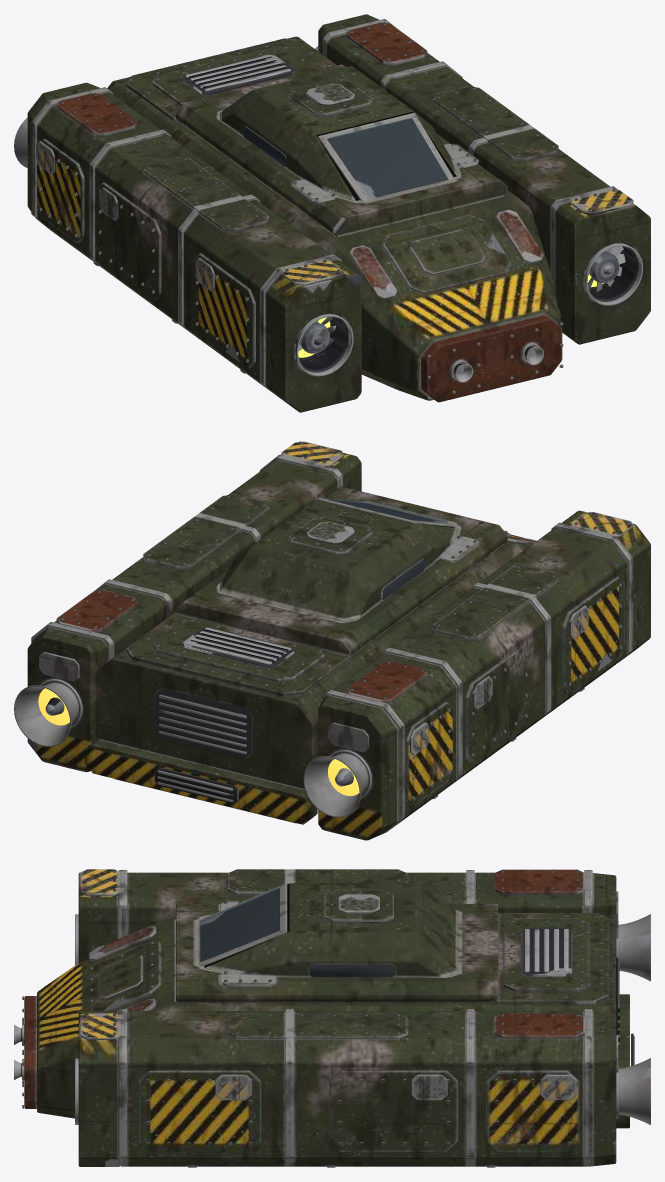
File: bulwark.glb
3 renders of one model, top to bottom at view 1: azimuth 30°, elevation 25°; view 2: azimuth 150°, elevation 25°; view 3: azimuth 270°, elevation 25°, orthographic.
Visible parts, largest first — view 1: bulwark_body, bulwark_glass; view 2: bulwark_body, bulwark_glass, bulwark_emissive; view 3: bulwark_body, bulwark_glass.
Part boxes in pixels (<box>): bulwark_body: <box>14,14,650,412</box>; bulwark_glass: <box>242,117,447,197</box>; bulwark_body: <box>14,441,650,840</box>; bulwark_glass: <box>328,497,447,598</box>; bulwark_emissive: <box>38,688,359,796</box>; bulwark_body: <box>14,869,650,1167</box>; bulwark_glass: <box>200,887,393,976</box>.
Bounding box in the file's own units: 3.18 × 1.44 × 4.59.
Materials: 5 (2 with a texture image).
